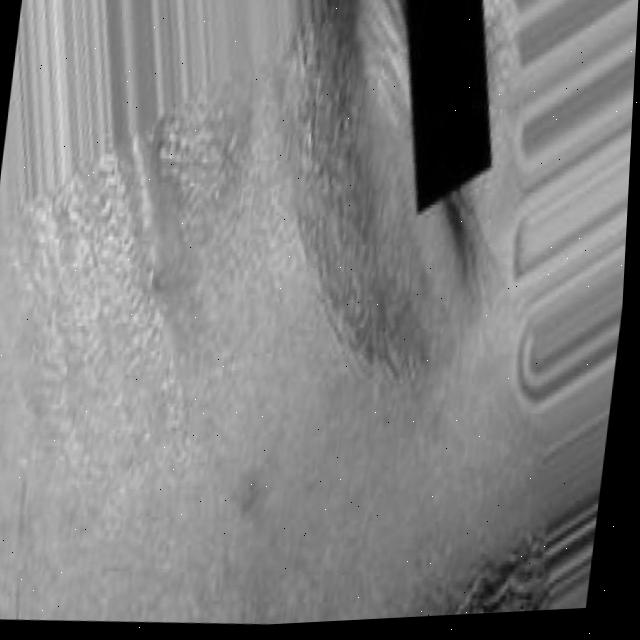Rosacea: (116, 131, 249, 267)
